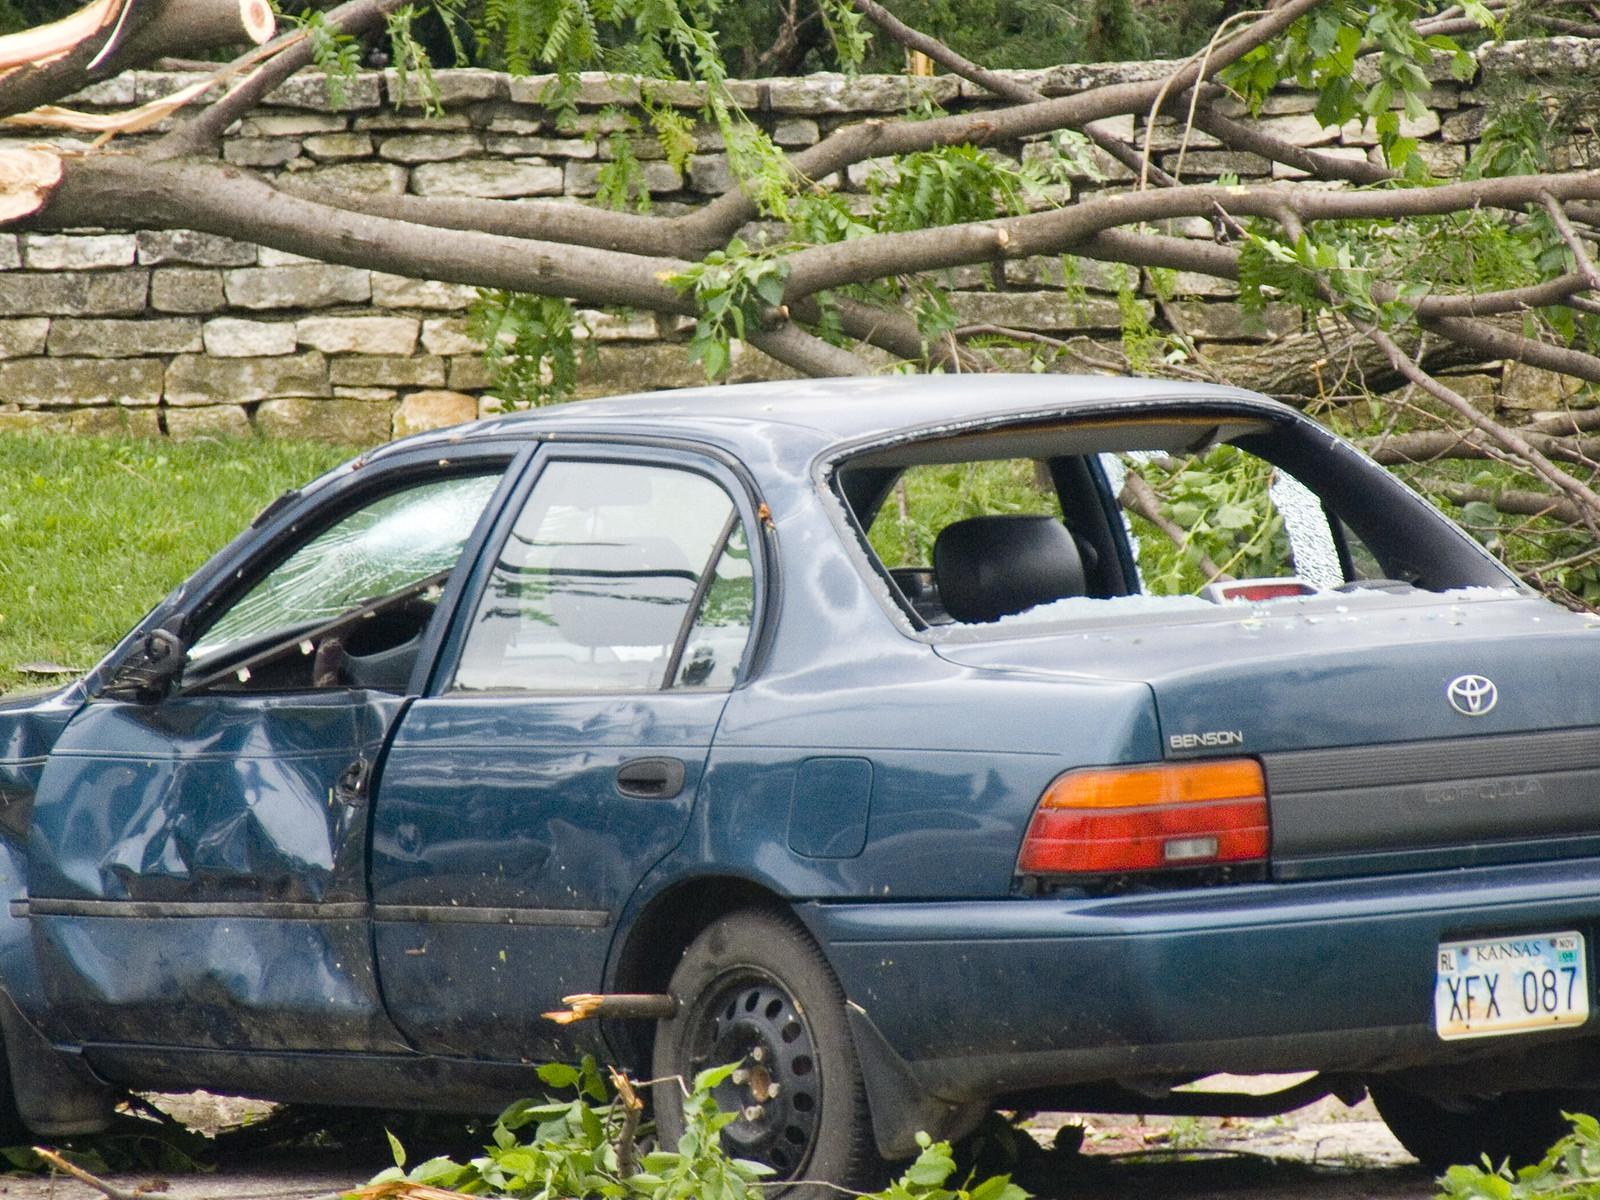Rear-windscreen-Damage: (821, 393, 1463, 649)
doorouter-dent: (71, 653, 393, 1039), (411, 673, 677, 1026)
